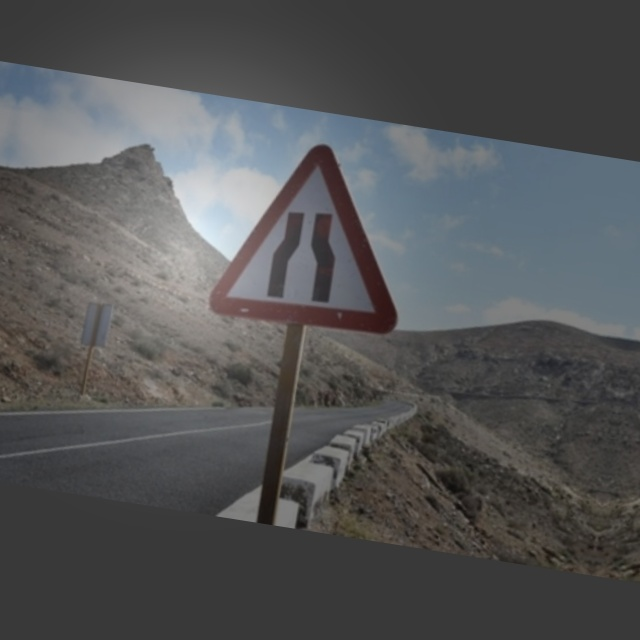Narrow_Road_Ahead: (202, 133, 422, 343)
